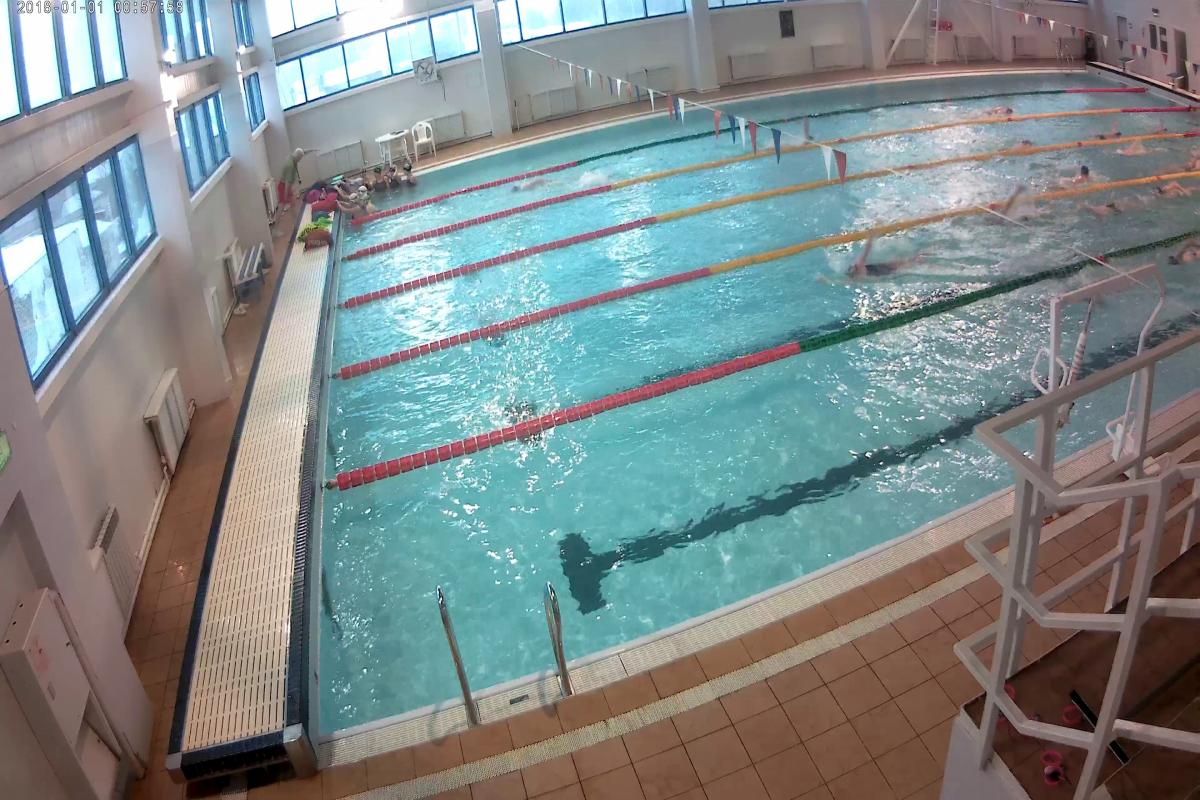swimmer: (832, 246, 919, 297), (509, 174, 560, 202), (1162, 234, 1196, 269), (1058, 161, 1102, 188), (1084, 113, 1126, 141), (1149, 179, 1198, 200), (1111, 136, 1154, 158), (1079, 197, 1133, 214), (980, 96, 1014, 121), (1001, 141, 1035, 154)
